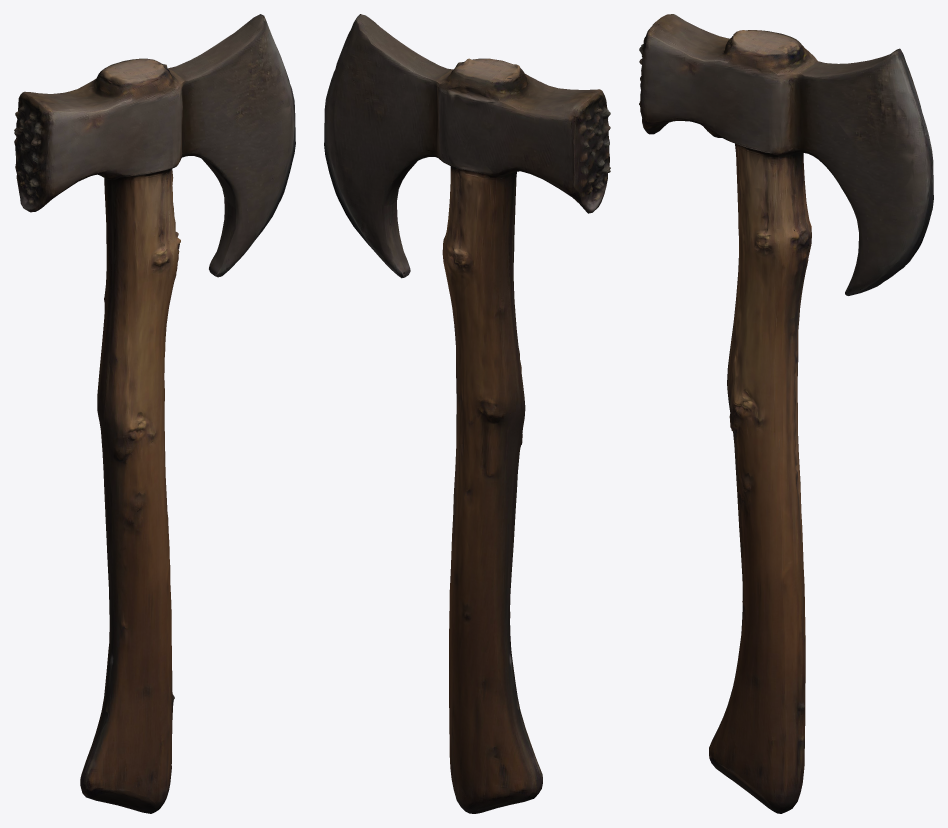
Rendered from asset.glb.
The picture shows the model from 3 angles, left to right: view 1: azimuth 30°, elevation 25°; view 2: azimuth 150°, elevation 25°; view 3: azimuth 330°, elevation 25°; orthographic projection. The views are drawn at different scales.
Visible parts, largest first — view 1: world; view 2: world; view 3: world.
Boxes of the visible parts, box(x1,y1,x2,y2) form: world: box(14, 14, 295, 813); world: box(324, 14, 610, 813); world: box(639, 14, 933, 813).
Size of the model in its own units: 0.3743 by 0.9973 by 0.0826.
1 material, 1 textured.
